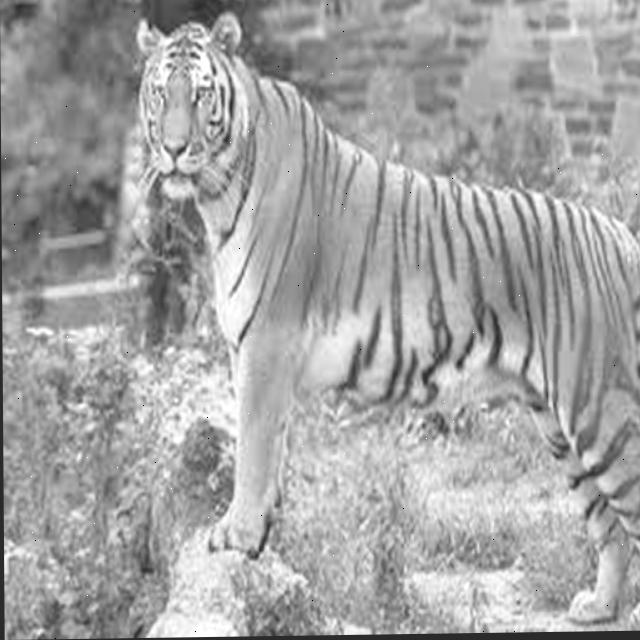Tiger: (129, 3, 640, 636)
